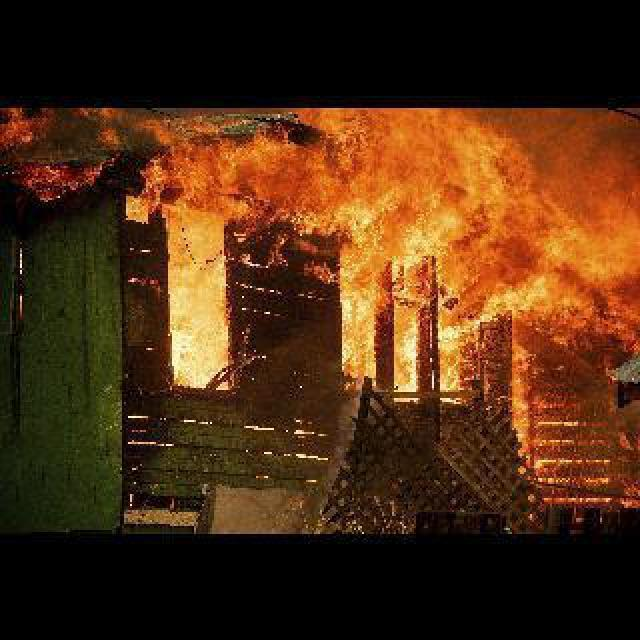Fire: (4, 106, 634, 512)
